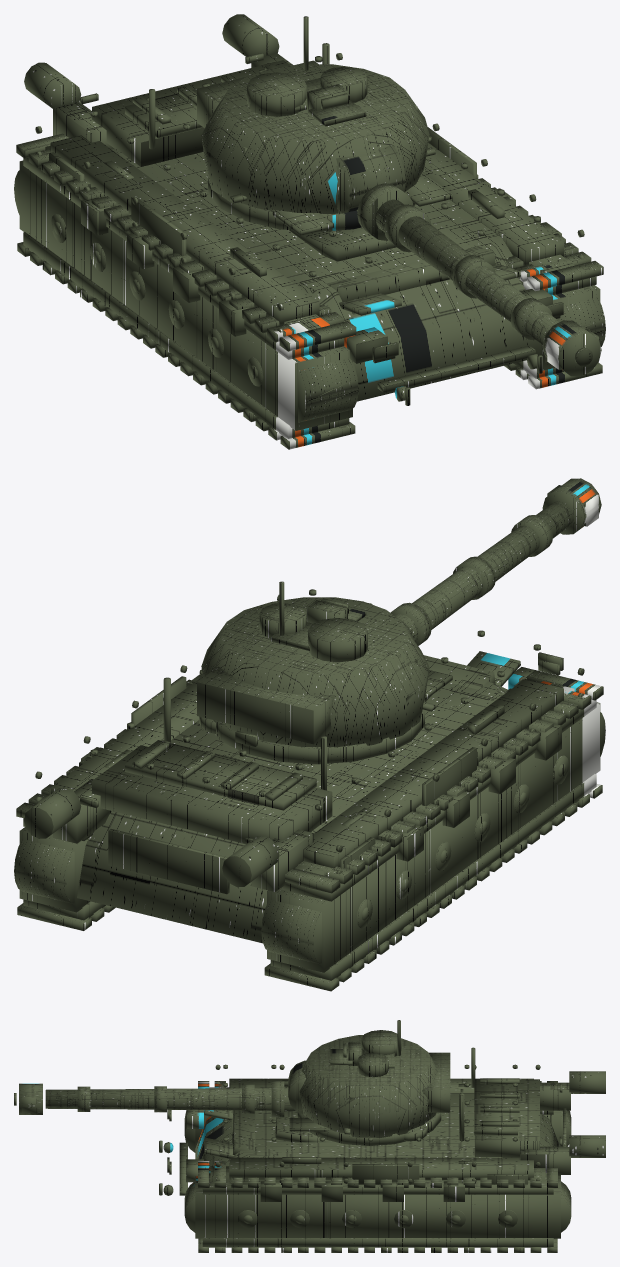
The model's file is medium_tank.obj.
The picture shows the model from 3 angles, top to bottom: view 1: azimuth 30°, elevation 25°; view 2: azimuth 150°, elevation 25°; view 3: azimuth 270°, elevation 25°; orthographic projection. The views are drawn at different scales.
Visible parts, largest first — view 1: HullArmor, TrackLeftMesh, TurretArmor, BarrelMesh, TeamColorPanels_Body, TrackRightMesh, BoltsAndFasteners, Emissive_Body, TeamColorPanels_Turret; view 2: HullArmor, TrackLeftMesh, TurretArmor, BarrelMesh, TeamColorPanels_Body, TrackRightMesh, BoltsAndFasteners, Emissive_Body, TeamColorPanels_Turret; view 3: TrackRightMesh, HullArmor, TurretArmor, BarrelMesh, TeamColorPanels_Body, TrackLeftMesh, BoltsAndFasteners, Emissive_Body, TeamColorPanels_Turret.
Part boxes in pixels (bbox=[...]): HullArmor: bbox=[24, 14, 574, 401]; TrackLeftMesh: bbox=[14, 133, 358, 449]; TurretArmor: bbox=[197, 16, 429, 231]; BarrelMesh: bbox=[356, 183, 601, 376]; TeamColorPanels_Body: bbox=[49, 127, 535, 392]; TrackRightMesh: bbox=[477, 174, 605, 389]; BoltsAndFasteners: bbox=[35, 53, 584, 405]; Emissive_Body: bbox=[80, 53, 560, 363]; TeamColorPanels_Turret: bbox=[242, 78, 417, 152]; HullArmor: bbox=[24, 655, 574, 943]; TrackLeftMesh: bbox=[261, 670, 605, 991]; TurretArmor: bbox=[197, 581, 429, 764]; BarrelMesh: bbox=[390, 478, 601, 645]; TeamColorPanels_Body: bbox=[49, 651, 520, 894]; TrackRightMesh: bbox=[14, 674, 202, 930]; BoltsAndFasteners: bbox=[35, 589, 584, 874]; Emissive_Body: bbox=[80, 660, 560, 844]; TeamColorPanels_Turret: bbox=[270, 607, 417, 663]; TrackRightMesh: bbox=[184, 1161, 571, 1252]; HullArmor: bbox=[186, 1047, 605, 1201]; TurretArmor: bbox=[288, 1020, 450, 1145]; BarrelMesh: bbox=[14, 1081, 295, 1117]; TeamColorPanels_Body: bbox=[179, 1108, 566, 1195]; TrackLeftMesh: bbox=[184, 1081, 571, 1152]; BoltsAndFasteners: bbox=[159, 1064, 540, 1195]; Emissive_Body: bbox=[169, 1080, 562, 1174]; TeamColorPanels_Turret: bbox=[330, 1048, 394, 1099].
Size of the model in its own units: 3.55 by 2.9 by 8.39.
